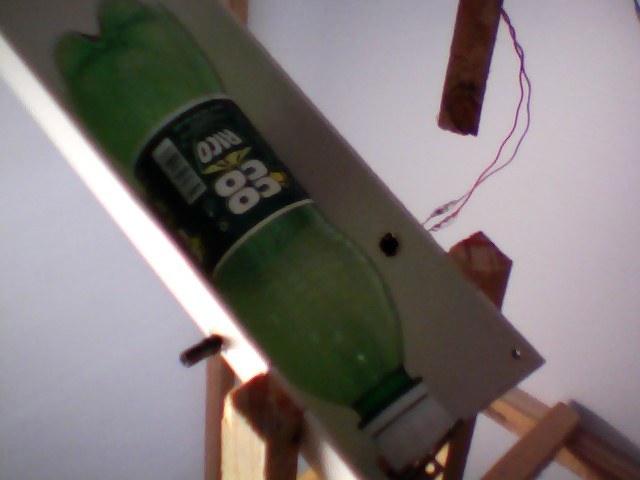plastico: (48, 1, 463, 472)
